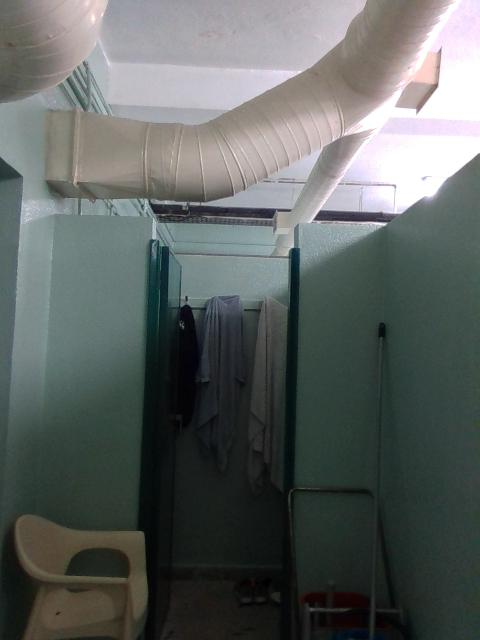open_door: (136, 212, 303, 639)
